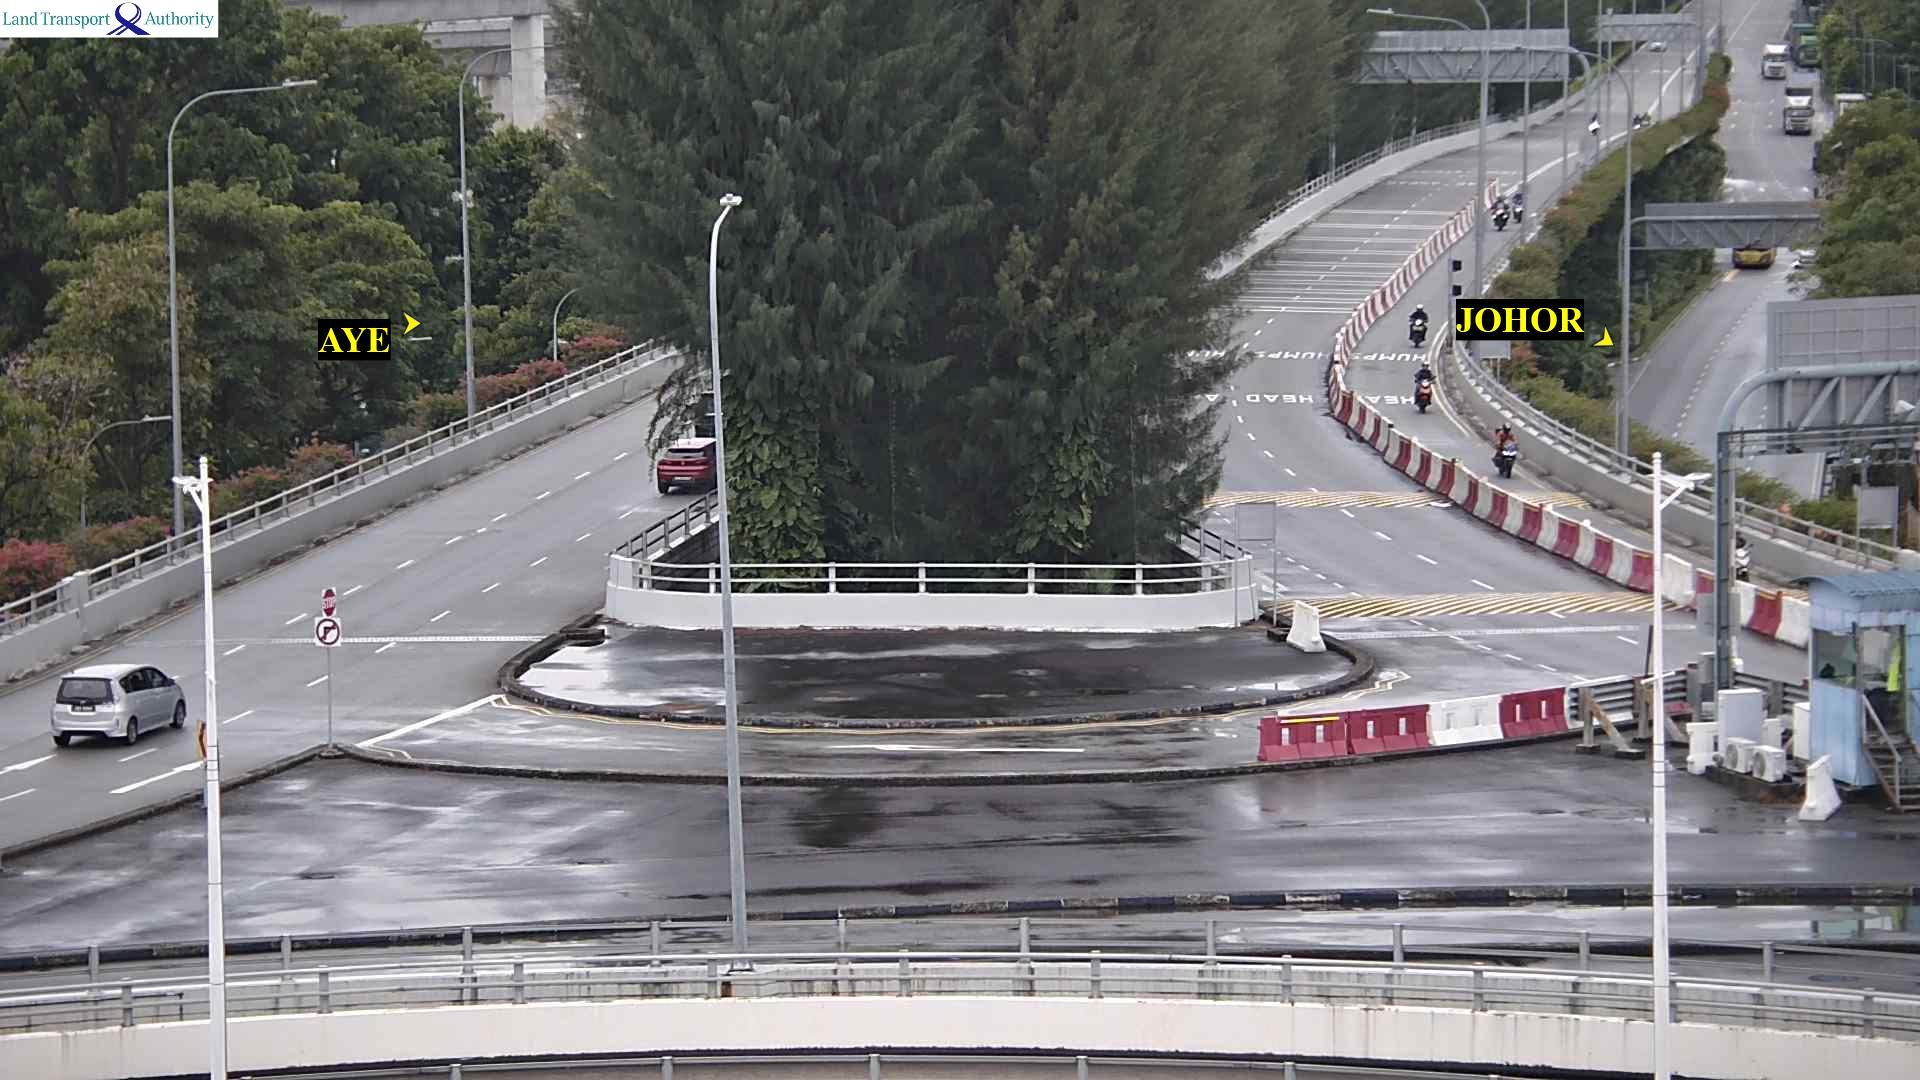vehicle-secondlink-johor: (1493, 423, 1525, 469), (1730, 535, 1753, 581), (1412, 366, 1435, 411), (1412, 312, 1438, 348), (1494, 196, 1507, 227), (1513, 188, 1522, 214)
vehicle-secondlink-singapore: (47, 667, 187, 742), (661, 441, 712, 488)
